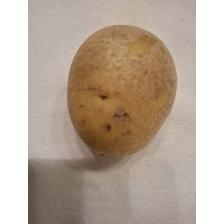Kartoffel: (64, 19, 182, 158)
